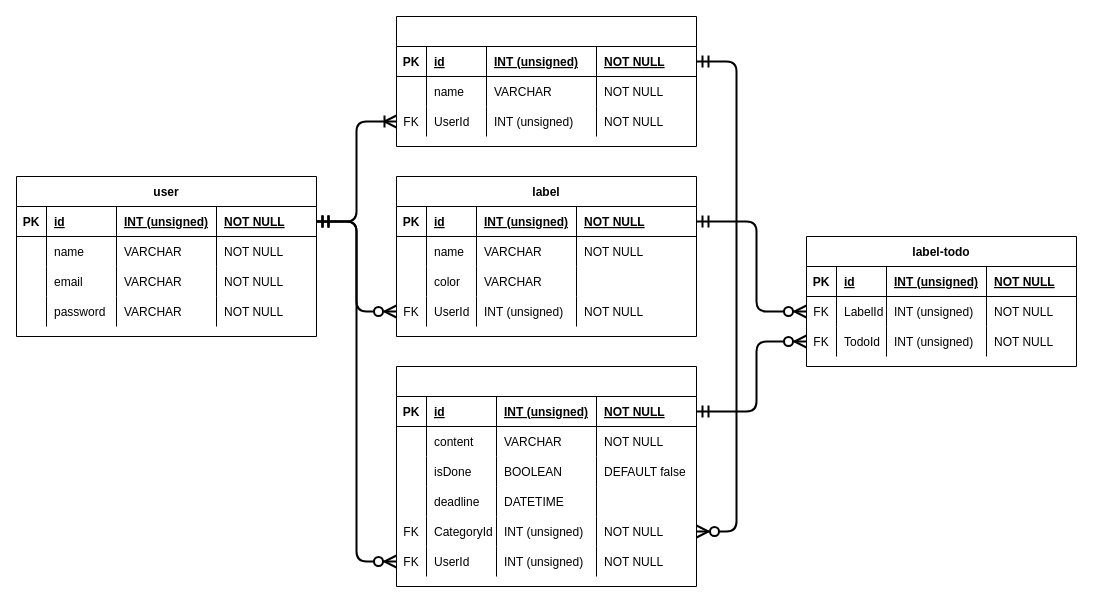
Some shapes in this 1093 by 603 pixel diagram are drawn without their labels. Here are the shapes that lost their labels. From the top down, the box of each, then its label:
(396, 16, 696, 146): category
(396, 366, 696, 586): todo
